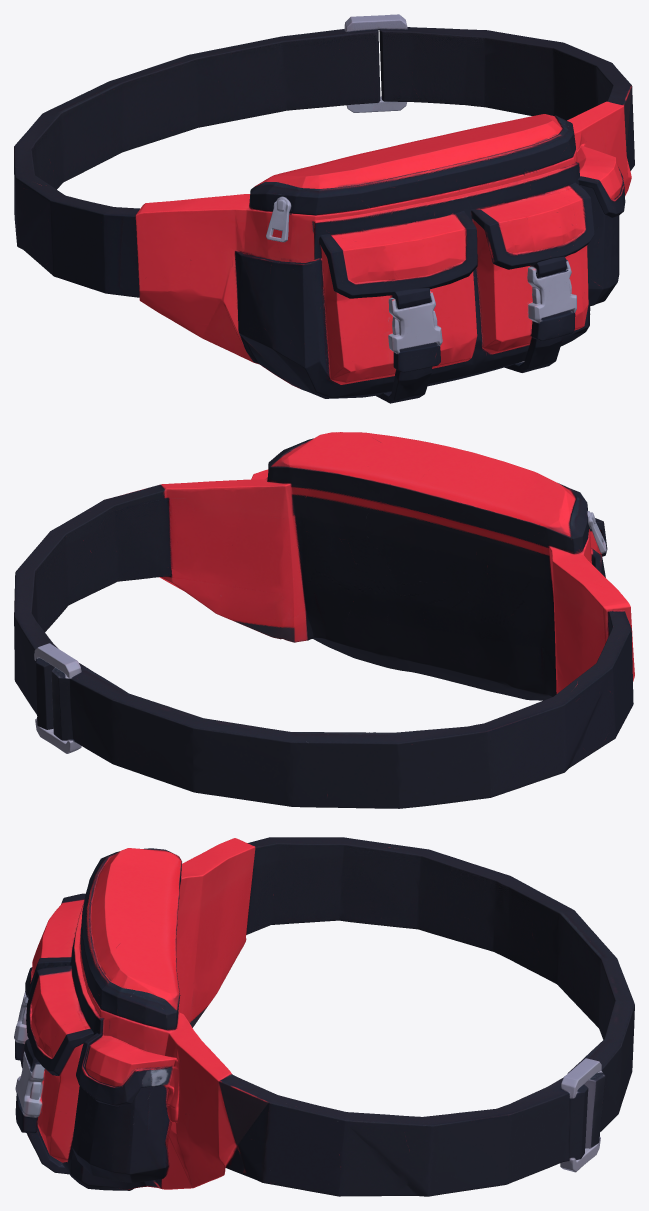
Rendered from runner_fanny_pack.glb.
The picture shows the model from 3 angles, top to bottom: view 1: azimuth 30°, elevation 25°; view 2: azimuth 150°, elevation 25°; view 3: azimuth 270°, elevation 25°; orthographic projection. The views are drawn at different scales.
Size of the model in its own units: 1.9 by 0.7283 by 1.76.
1 material, 1 textured.
